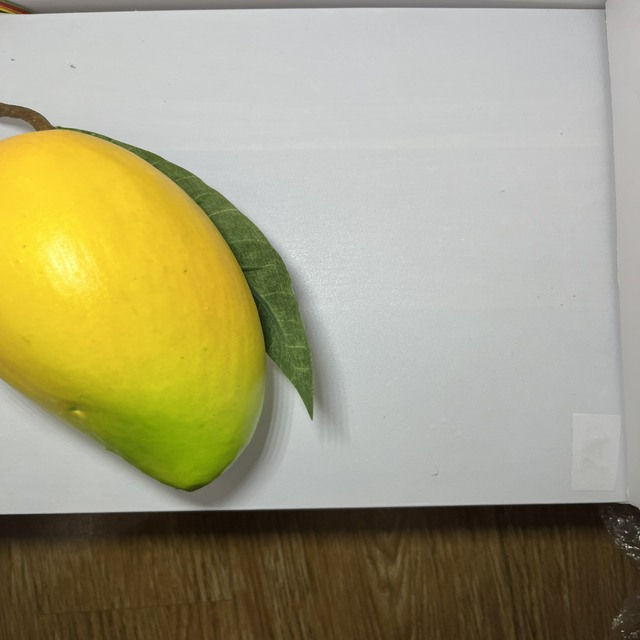Xoai: (2, 122, 270, 489)
